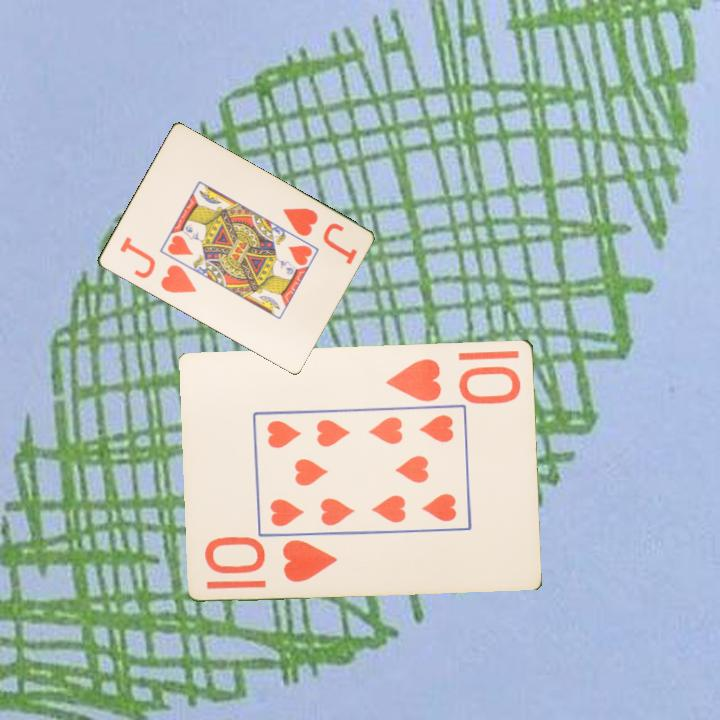10h: (382, 354, 525, 404), (201, 536, 341, 584)
Jh: (116, 233, 199, 296), (279, 204, 321, 239)
